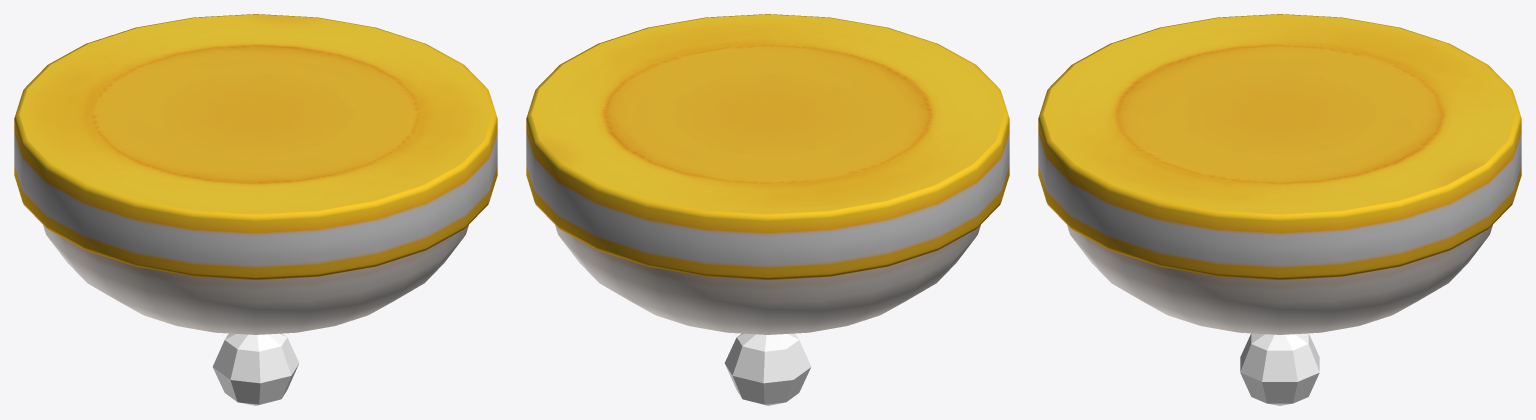
Rendered from OfficeCeilingLight05_2.FBX.
The picture shows the model from 3 angles, left to right: view 1: azimuth 30°, elevation 25°; view 2: azimuth 150°, elevation 25°; view 3: azimuth 270°, elevation 25°; orthographic projection.
Visible parts, largest first — view 1: OfficeCeilingLight05_2; view 2: OfficeCeilingLight05_2; view 3: OfficeCeilingLight05_2.
Boxes of the visible parts, box(x1,y1,x2,y2) form: OfficeCeilingLight05_2: box(14, 14, 497, 405); OfficeCeilingLight05_2: box(526, 14, 1009, 405); OfficeCeilingLight05_2: box(1038, 14, 1521, 405).
Size of what is drawn, in the model's own units: 0.9003 by 0.5989 by 0.9003.
